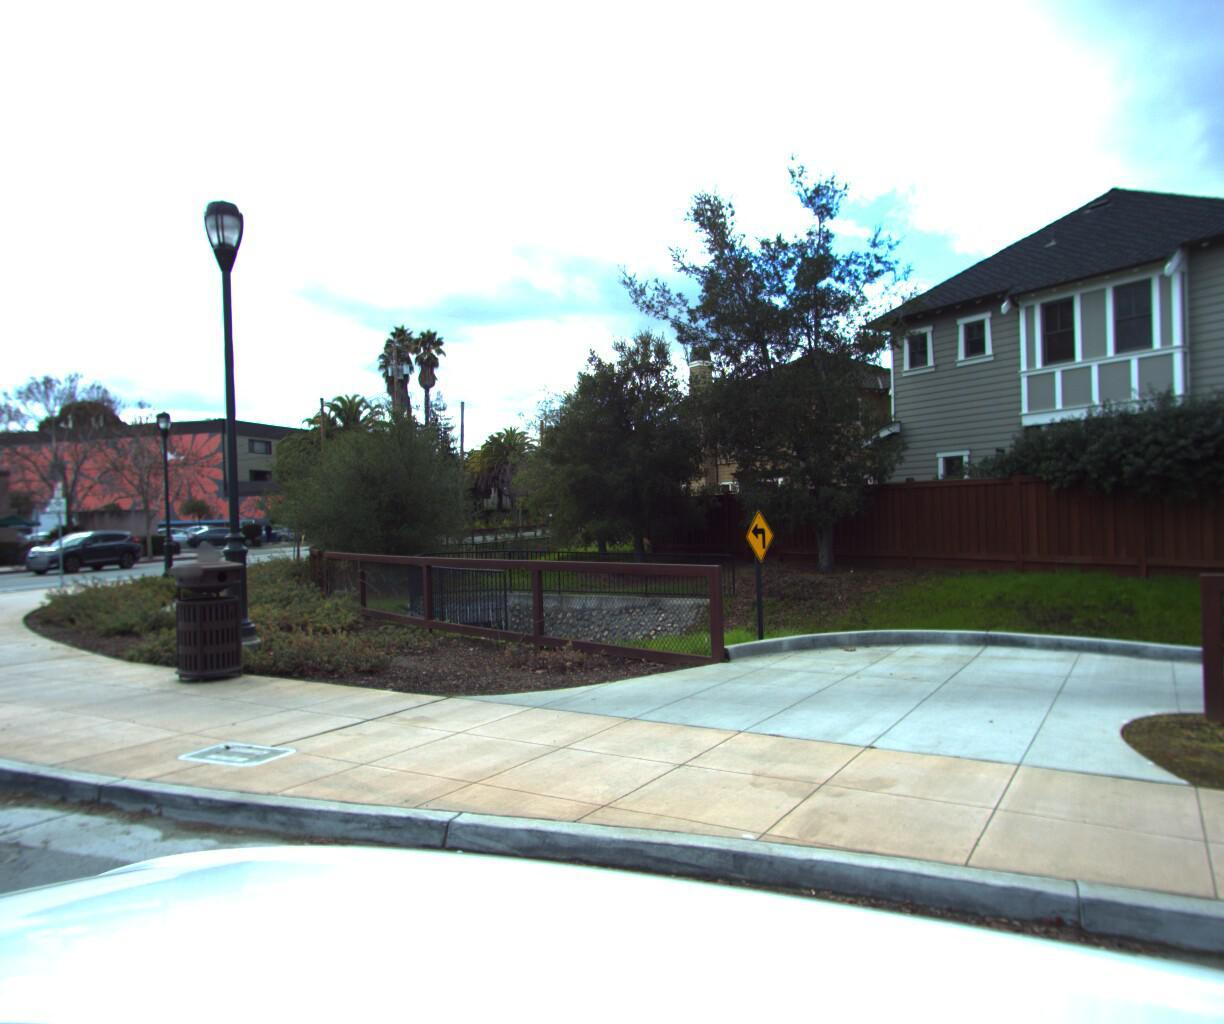bicycle: (2, 537, 57, 565)
car: (14, 524, 145, 568), (189, 520, 257, 543)
